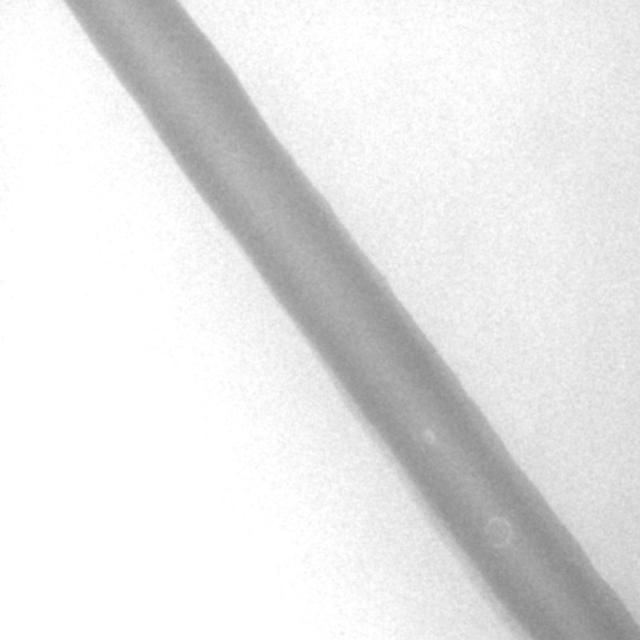air-hole: (426, 430, 438, 451)
